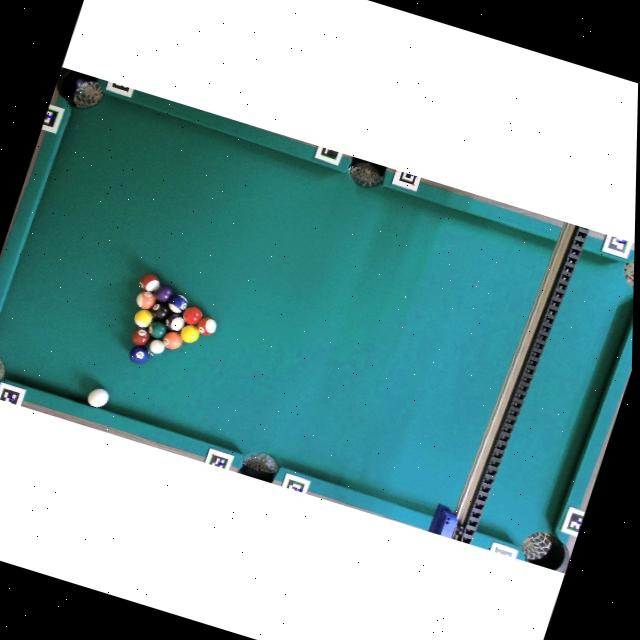cue ball: (85, 386, 110, 410)
other: (146, 298, 174, 324), (192, 312, 219, 338), (165, 291, 192, 317), (135, 269, 163, 294), (142, 335, 168, 360), (132, 288, 158, 312), (127, 342, 151, 367), (177, 322, 202, 346), (152, 282, 176, 306), (160, 329, 185, 352), (180, 304, 204, 327), (163, 310, 187, 333), (128, 325, 151, 348), (131, 307, 155, 329), (145, 319, 168, 341)
